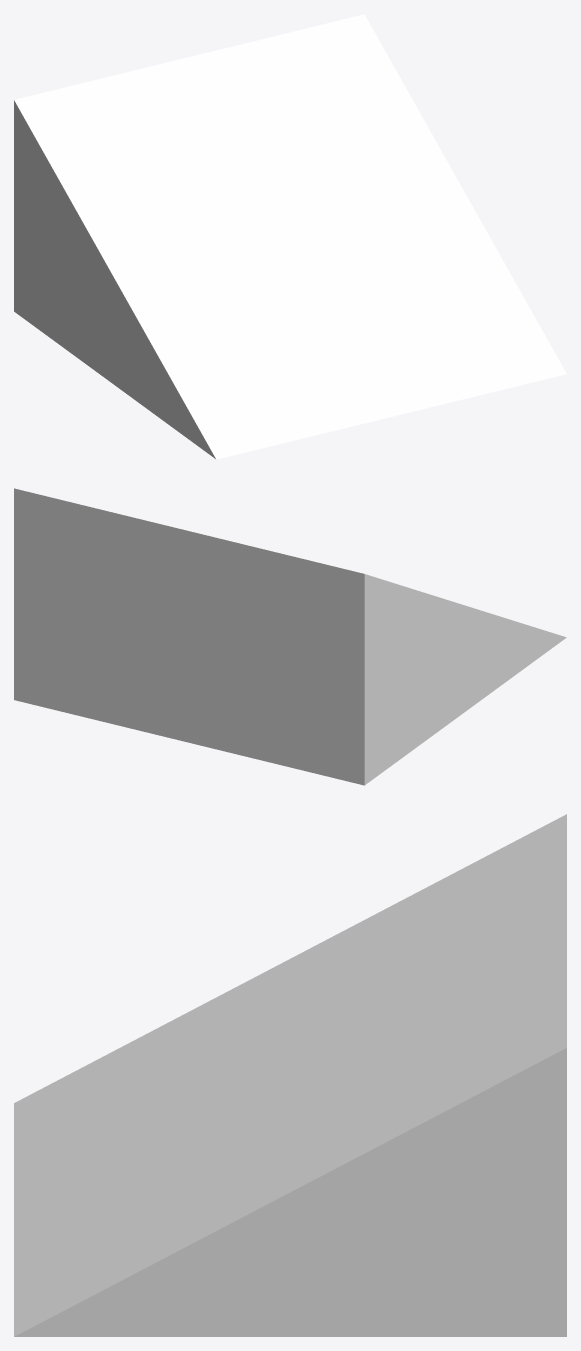
Rendered from SM_Buildings_Ramp_30_1x1_01.glb.
3 renders of one model, top to bottom at view 1: azimuth 30°, elevation 25°; view 2: azimuth 150°, elevation 25°; view 3: azimuth 270°, elevation 25°, orthographic. The views are drawn at different scales.
Visible parts, largest first — view 1: SM_Buildings_Ramp_30_1x1_01; view 2: SM_Buildings_Ramp_30_1x1_01; view 3: SM_Buildings_Ramp_30_1x1_01.
Part boxes in pixels (x1=…): SM_Buildings_Ramp_30_1x1_01: x1=14, y1=14, x2=566, y2=459; SM_Buildings_Ramp_30_1x1_01: x1=14, y1=488, x2=566, y2=785; SM_Buildings_Ramp_30_1x1_01: x1=14, y1=814, x2=566, y2=1336.
Bounding box in the file's own units: 1 × 0.577 × 1.
Materials: 1 (1 with a texture image).
